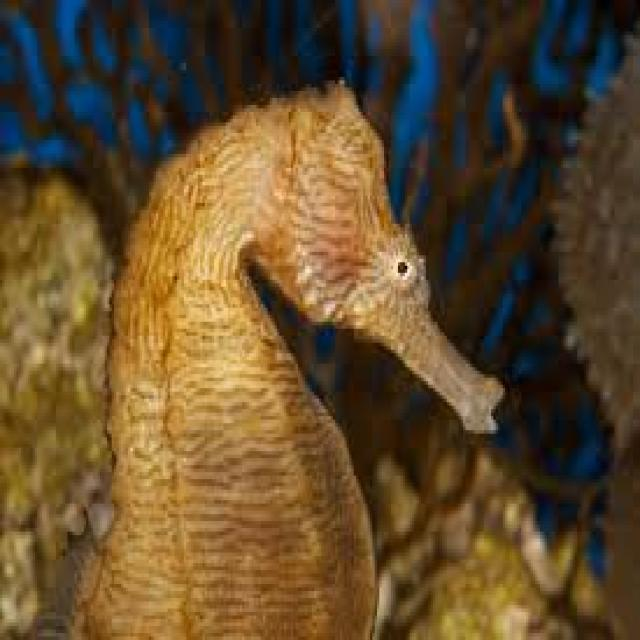seahorse: (67, 84, 503, 637)
